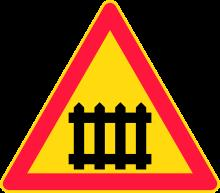Barrier Ahead: (13, 16, 204, 187)
